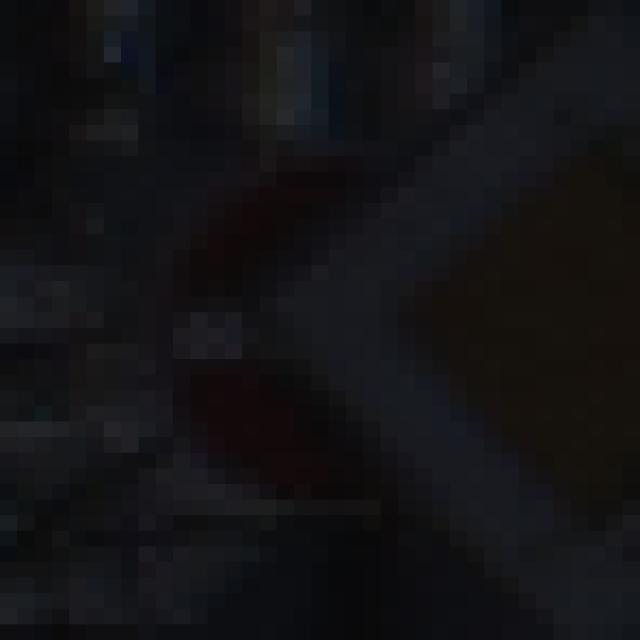No Entry: (88, 95, 555, 563)
